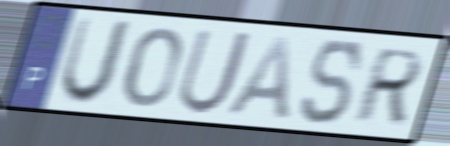A: (223, 33, 294, 124)
O: (121, 25, 184, 110)
R: (349, 45, 429, 126)
S: (297, 36, 366, 127)
U: (55, 13, 137, 109), (174, 26, 257, 118)
